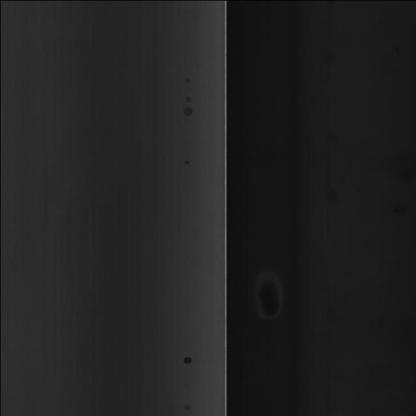oil_spot: (178, 73, 200, 118), (182, 341, 198, 369)
